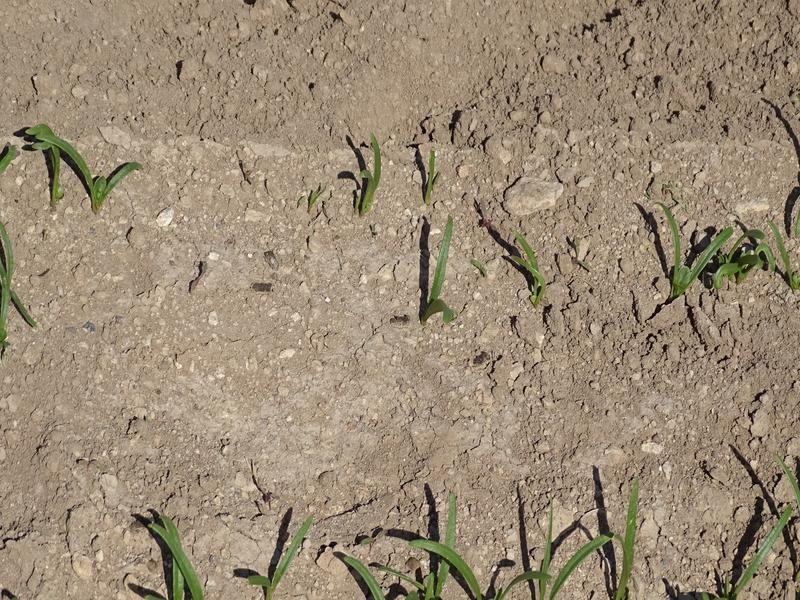Espinaca: (340, 490, 648, 596), (645, 203, 800, 302), (28, 122, 148, 216), (734, 497, 793, 596), (419, 220, 464, 332), (253, 516, 308, 600), (153, 513, 201, 597), (513, 233, 549, 307), (360, 142, 383, 216)
